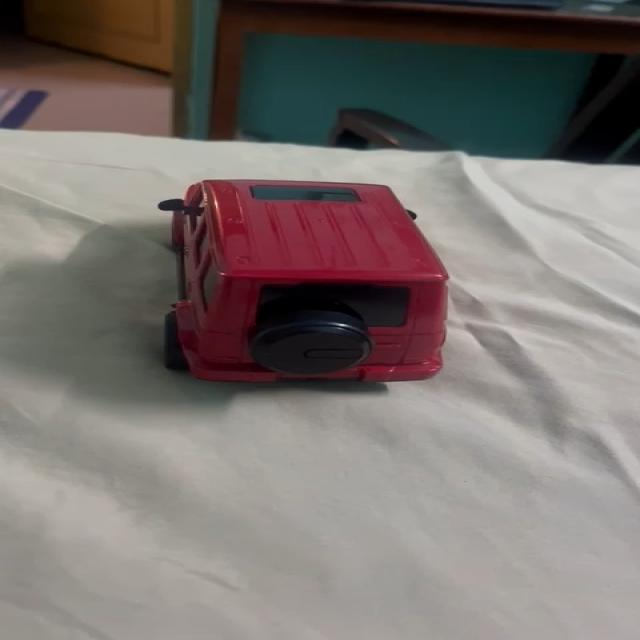light_vehicle: (152, 176, 454, 387)
